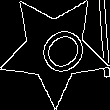O_SW: (22, 17, 87, 82)
